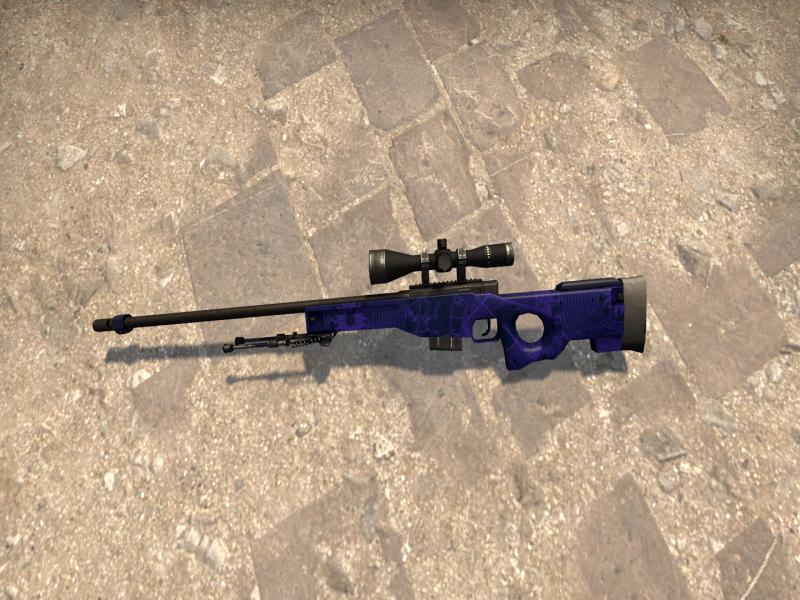AWP: (92, 239, 648, 370)
